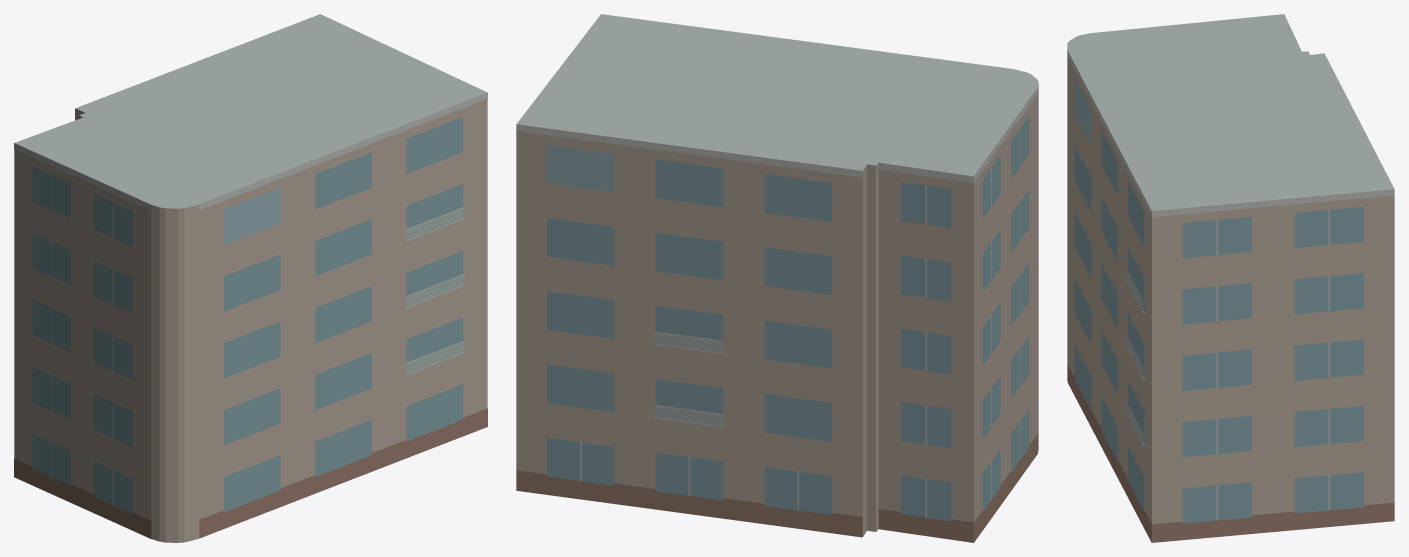
File: survey-upis-32676827.glb
3 renders of one model, left to right at view 1: azimuth 30°, elevation 25°; view 2: azimuth 150°, elevation 25°; view 3: azimuth 270°, elevation 25°, orthographic. The views are drawn at different scales.
Visible parts, largest first — view 1: survey-upis-32676827.tmp; view 2: survey-upis-32676827.tmp; view 3: survey-upis-32676827.tmp.
Part boxes in pixels (x1,y1,x2,y2): survey-upis-32676827.tmp: (14, 14, 487, 542); survey-upis-32676827.tmp: (516, 14, 1038, 542); survey-upis-32676827.tmp: (1067, 14, 1394, 542).
Size of the model in its own units: 16.95 by 13.3 by 11.9.
